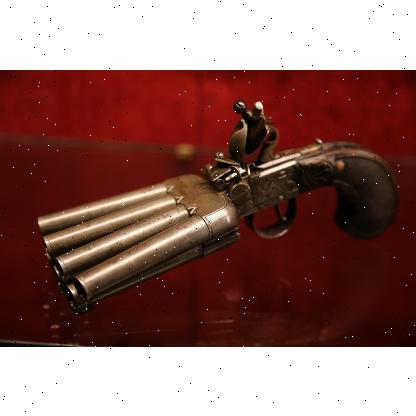gun: (37, 99, 400, 317)
